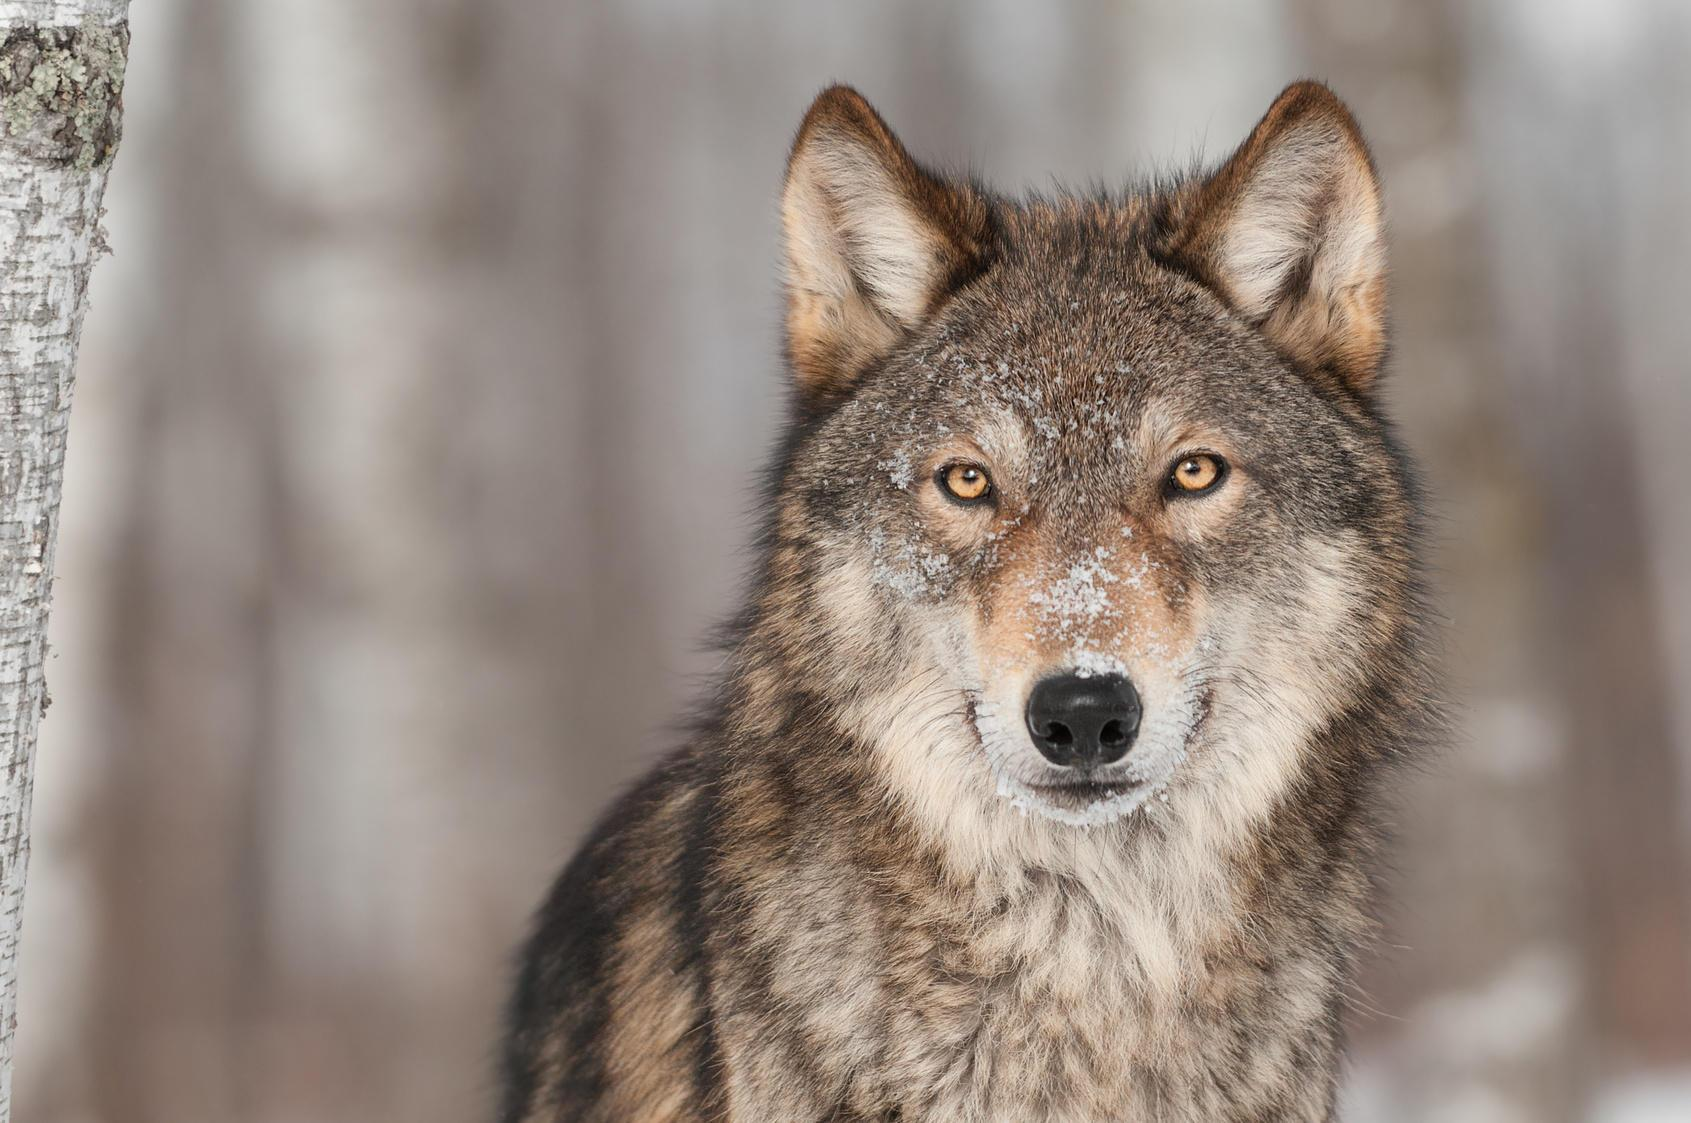Wolf: (481, 81, 1452, 1123)
